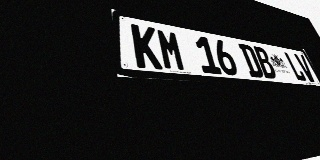1: (193, 35, 222, 74)
6: (211, 38, 240, 76)
B: (252, 46, 278, 79)
D: (238, 43, 265, 78)
K: (131, 23, 163, 70)
L: (283, 52, 307, 81)
M: (156, 28, 187, 72)
V: (293, 53, 317, 82)
